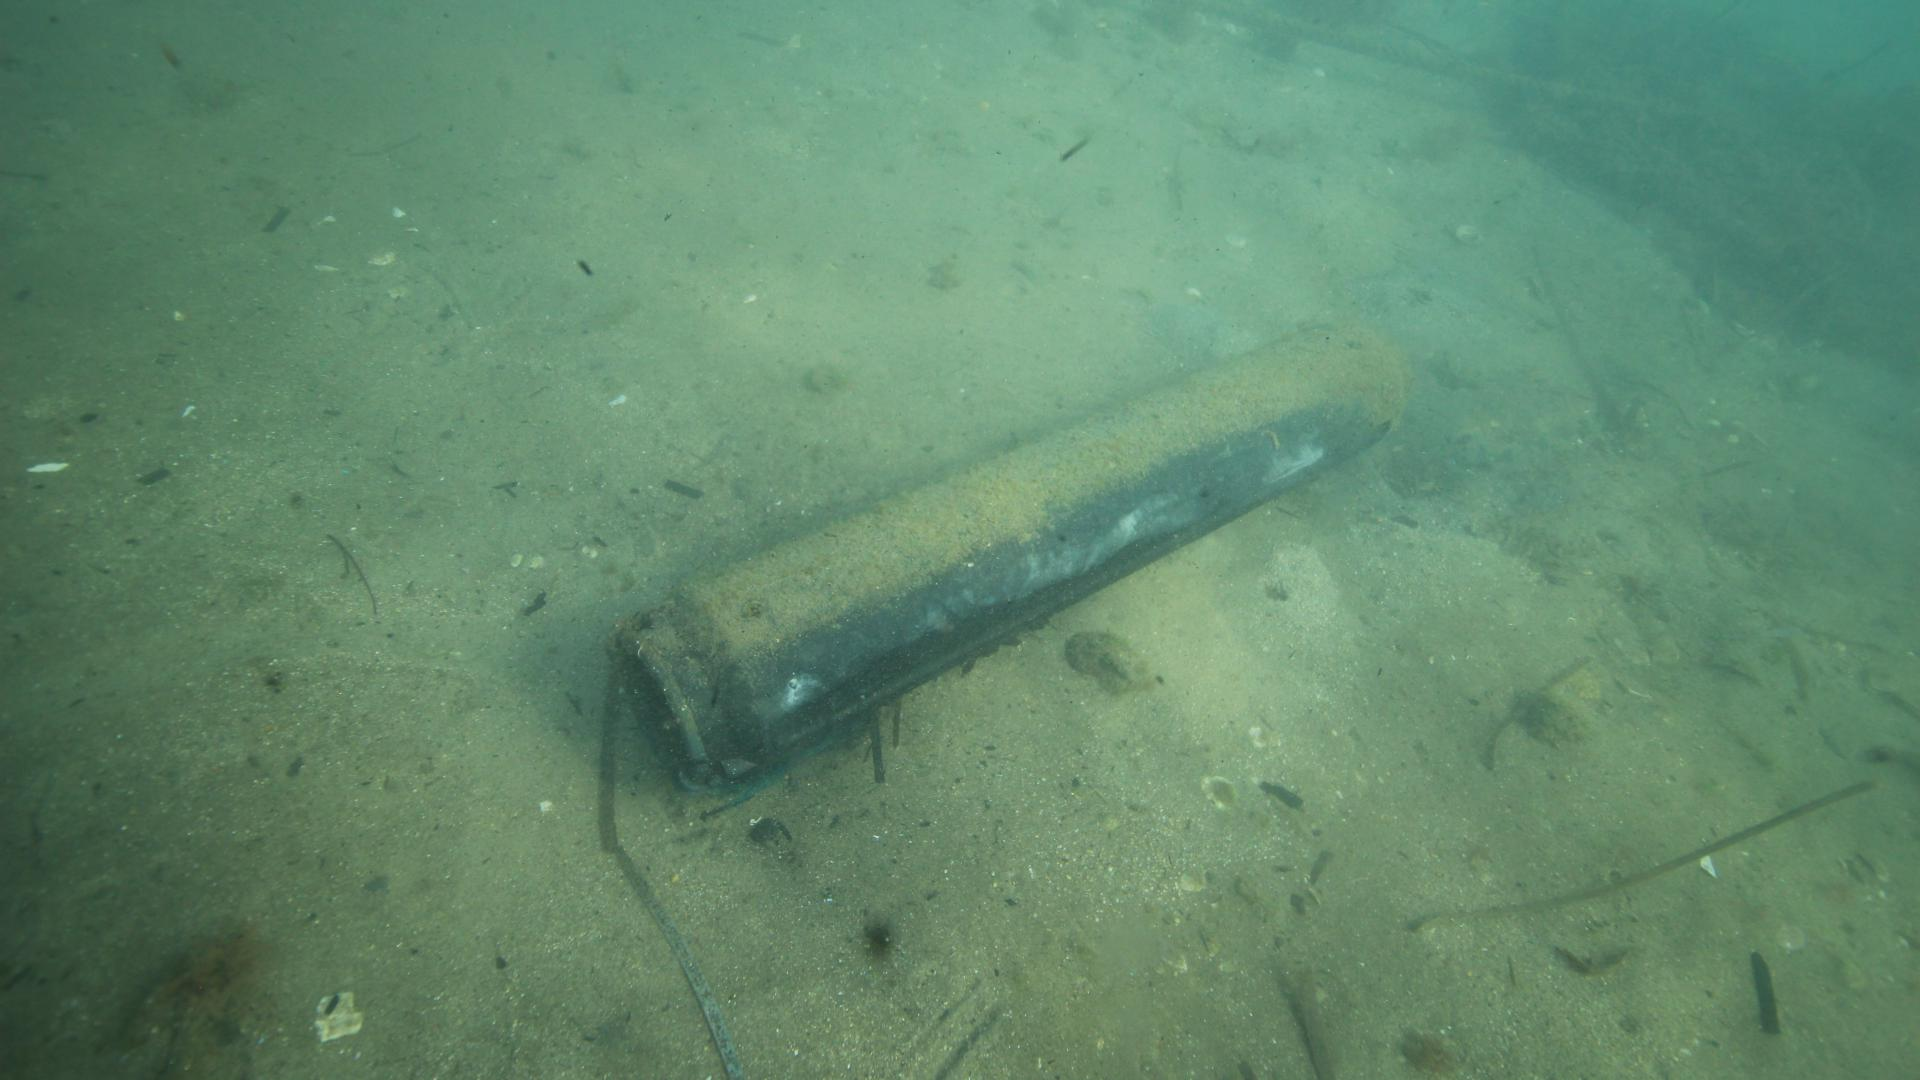eel fish trap: (620, 320, 1408, 781)
